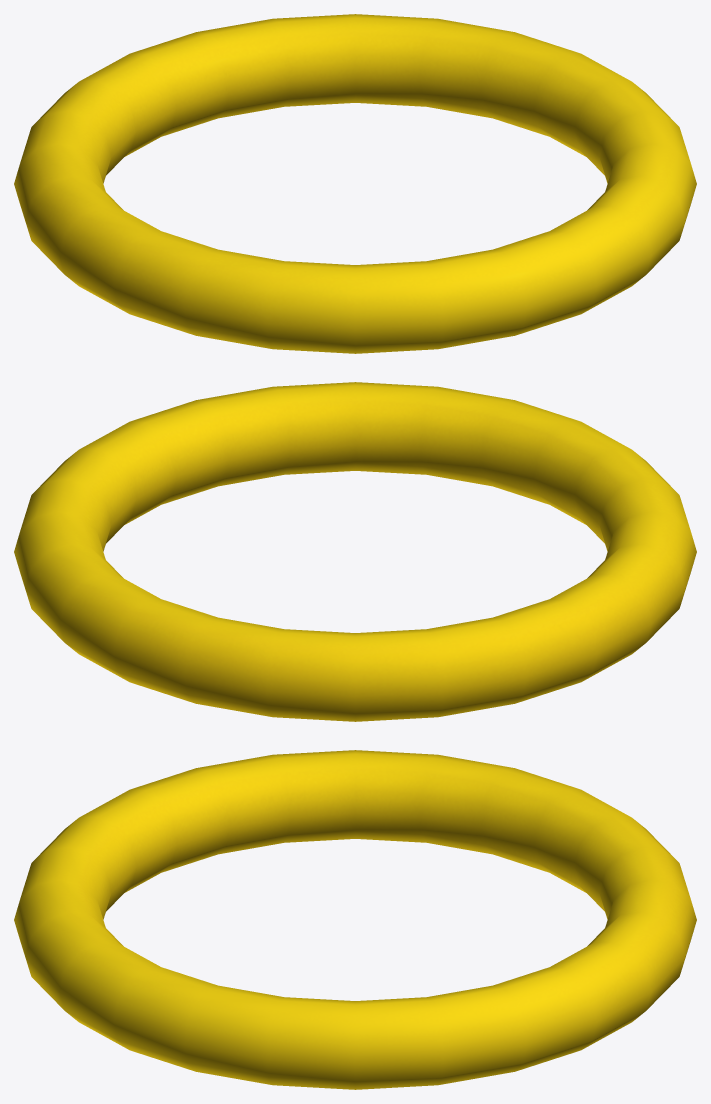
Rendered from Ring.FBX.
The picture shows the model from 3 angles, top to bottom: view 1: azimuth 30°, elevation 25°; view 2: azimuth 150°, elevation 25°; view 3: azimuth 270°, elevation 25°; orthographic projection.
Parts seen in each view (by area): view 1: Acc_Ring; view 2: Acc_Ring; view 3: Acc_Ring.
Part boxes in pixels (x1,y1,x2,y2): Acc_Ring: [14, 14, 696, 353]; Acc_Ring: [14, 382, 696, 721]; Acc_Ring: [14, 750, 696, 1089].
Bounding box in the file's own units: 197 × 25.72 × 197.
